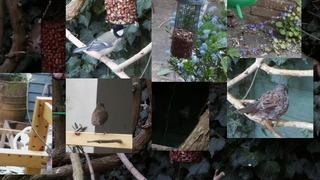dunnock: (233, 82, 289, 126)
great tit: (72, 24, 128, 65)
mouse: (26, 24, 42, 54)
robin: (91, 102, 108, 136)
